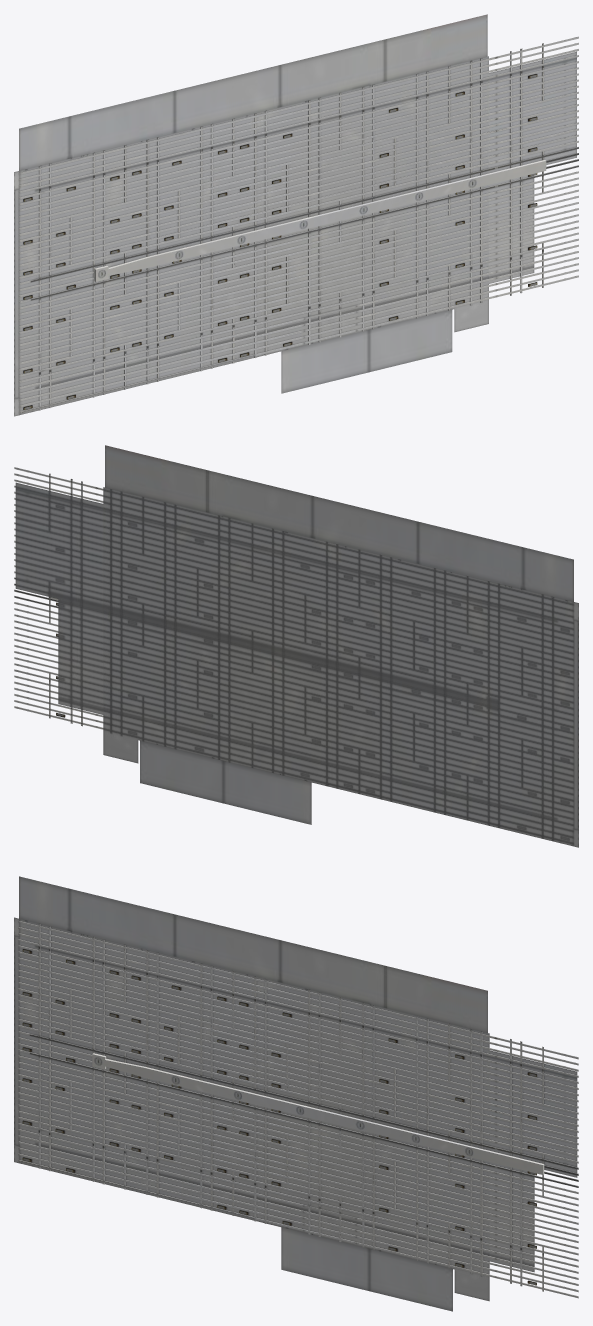
The model's file is PlafondAR.fbx.
The picture shows the model from 3 angles, top to bottom: view 1: azimuth 30°, elevation 25°; view 2: azimuth 150°, elevation 25°; view 3: azimuth 330°, elevation 25°; orthographic projection.
Parts seen in each view (by area): view 1: ShapeIndexedFaceSet, ShapeIndexedFaceSet_009, ShapeIndexedFaceSet_005; view 2: ShapeIndexedFaceSet, ShapeIndexedFaceSet_009; view 3: ShapeIndexedFaceSet, ShapeIndexedFaceSet_009, ShapeIndexedFaceSet_005.
Boxes of the visible parts, x1,y1,x2,y2 form: ShapeIndexedFaceSet: [14, 14, 576, 416]; ShapeIndexedFaceSet_009: [19, 36, 578, 413]; ShapeIndexedFaceSet_005: [23, 74, 537, 409]; ShapeIndexedFaceSet: [15, 445, 578, 847]; ShapeIndexedFaceSet_009: [14, 467, 103, 729]; ShapeIndexedFaceSet: [14, 876, 577, 1311]; ShapeIndexedFaceSet_009: [18, 921, 578, 1298]; ShapeIndexedFaceSet_005: [22, 949, 536, 1285].
Bounding box in the file's own units: 71.08 × 39.6 × 0.4075.
